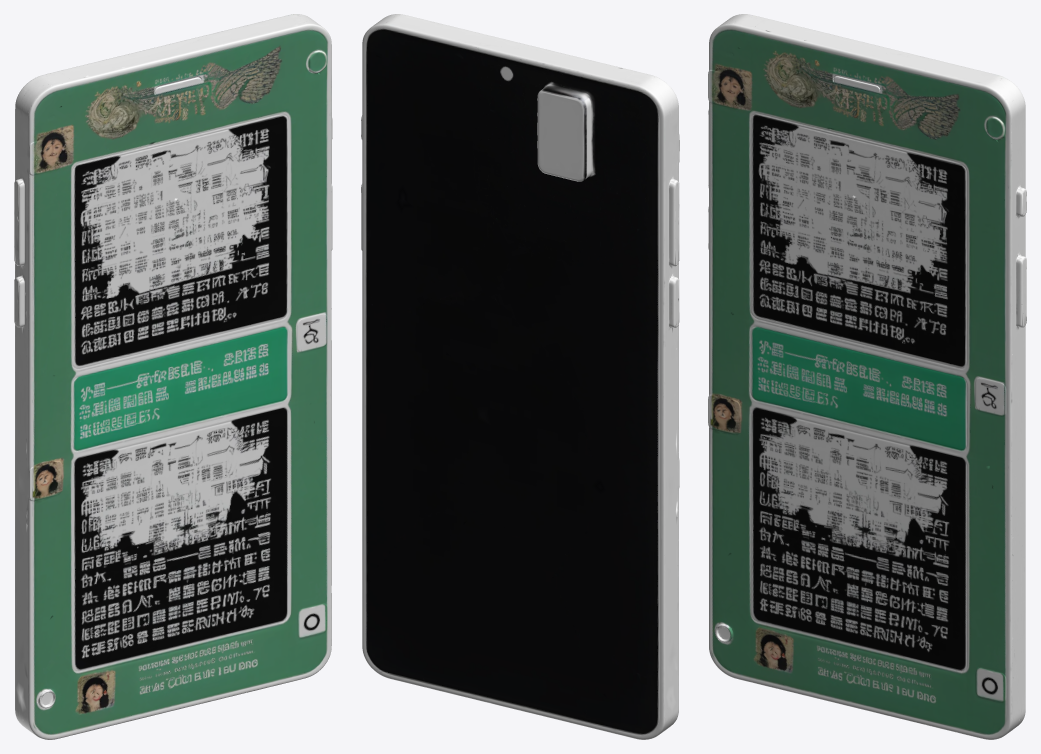
File: model-web.glb
3 views of the same model, side by side, from view 1: azimuth 30°, elevation 25°; view 2: azimuth 150°, elevation 25°; view 3: azimuth 330°, elevation 25° (orthographic).
Parts seen in each view (by area): view 1: node_0; view 2: node_0; view 3: node_0.
Boxes of the visible parts, left/top/right/bottom form: node_0: left=14, top=14, right=332, bottom=739; node_0: left=361, top=14, right=679, bottom=739; node_0: left=708, top=14, right=1026, bottom=739.
Bounding box in the file's own units: 0.556 × 1.11 × 0.0756.
1 material, 1 textured.
